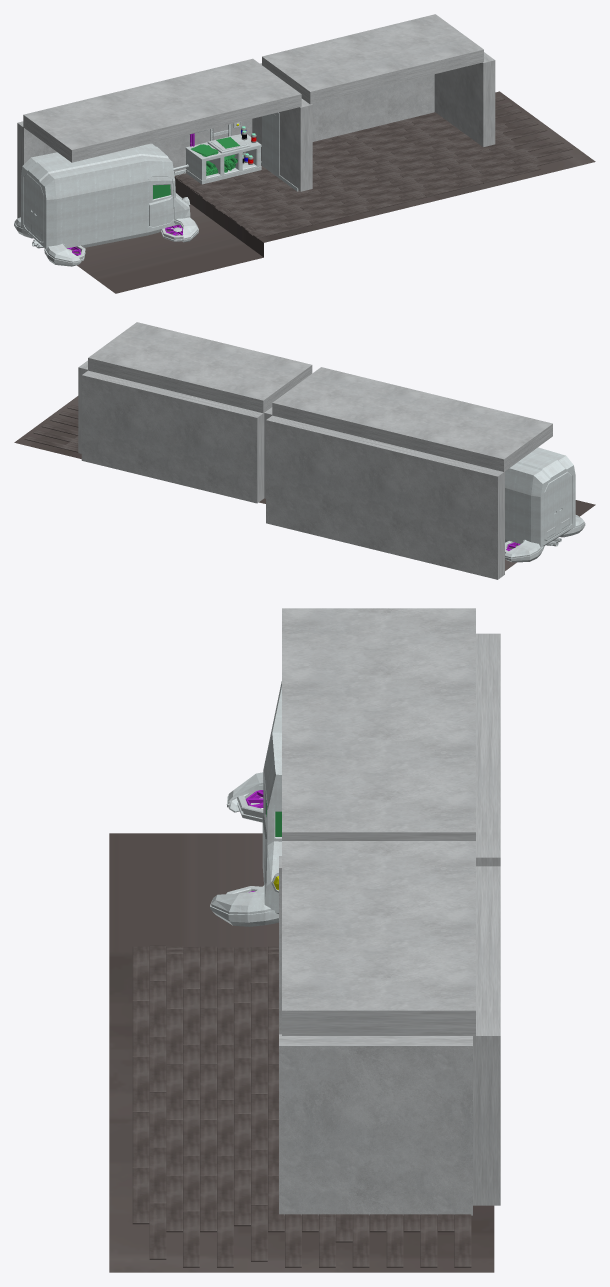
File: sala_copiadora_01.FBX
3 renders of one model, top to bottom at view 1: azimuth 30°, elevation 25°; view 2: azimuth 150°, elevation 25°; view 3: azimuth 270°, elevation 25°, orthographic. The views are drawn at different scales.
Visible parts, largest first — view 1: sala, suelo, camion01, plano_suelo, copiadora, puerta_004; view 2: sala, camion01, plano_suelo, suelo; view 3: sala, suelo, plano_suelo, camion01.
Part boxes in pixels (x1,y1,x2,y2): sala: [17, 14, 495, 218]; suelo: [174, 96, 572, 238]; camion01: [14, 143, 198, 266]; plano_suelo: [71, 91, 595, 293]; copiadora: [185, 121, 261, 184]; puerta_004: [261, 112, 298, 191]; sala: [78, 322, 552, 579]; camion01: [505, 447, 585, 562]; plano_suelo: [14, 396, 595, 570]; suelo: [24, 404, 78, 452]; sala: [279, 608, 500, 1215]; suelo: [132, 945, 471, 1267]; plano_suelo: [109, 833, 494, 1272]; camion01: [210, 681, 281, 926].
Bounding box in the file's own units: 17.51 × 3.79 × 5.85.
